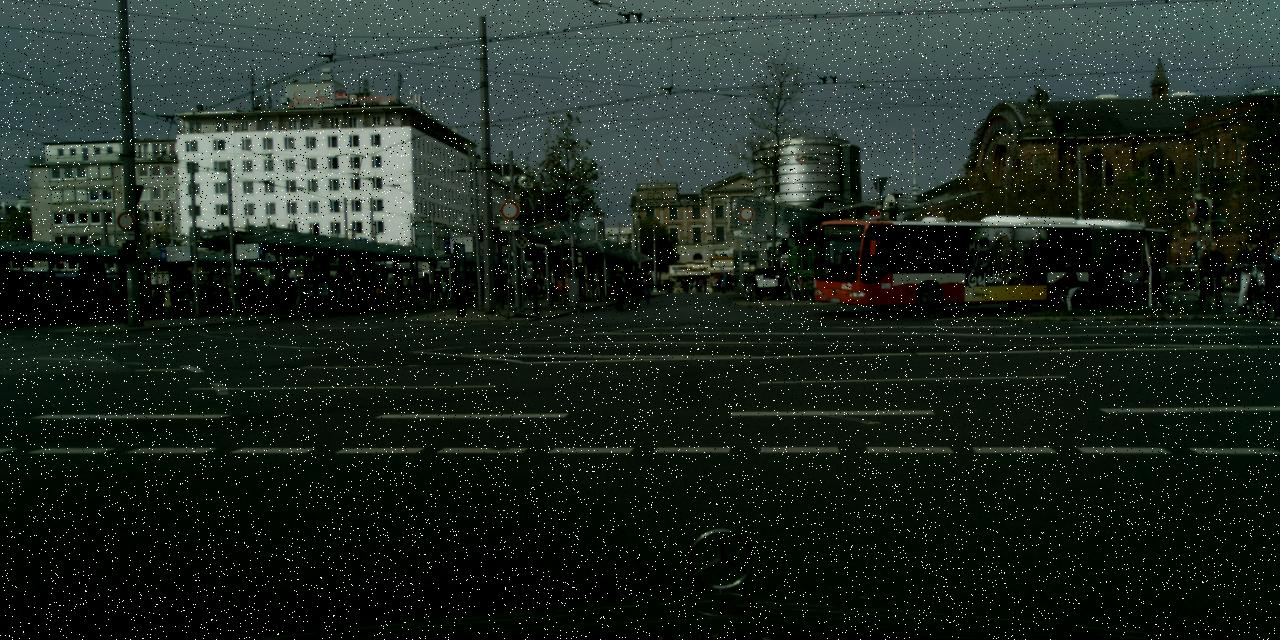ped: (1238, 236, 1266, 306), (1236, 238, 1260, 298), (1200, 240, 1224, 299), (1262, 241, 1279, 318), (340, 274, 374, 309), (1143, 254, 1163, 307), (1062, 263, 1080, 308), (611, 267, 628, 309), (627, 268, 643, 308), (279, 275, 294, 311), (284, 277, 298, 312), (199, 282, 213, 312), (420, 273, 432, 304), (152, 284, 164, 314), (641, 269, 653, 299), (85, 287, 96, 317), (443, 278, 456, 303), (384, 276, 394, 304), (220, 284, 230, 310), (680, 278, 694, 293), (719, 271, 727, 292), (695, 278, 707, 292), (665, 279, 675, 294), (726, 271, 732, 290), (716, 278, 721, 293), (192, 290, 195, 310)
